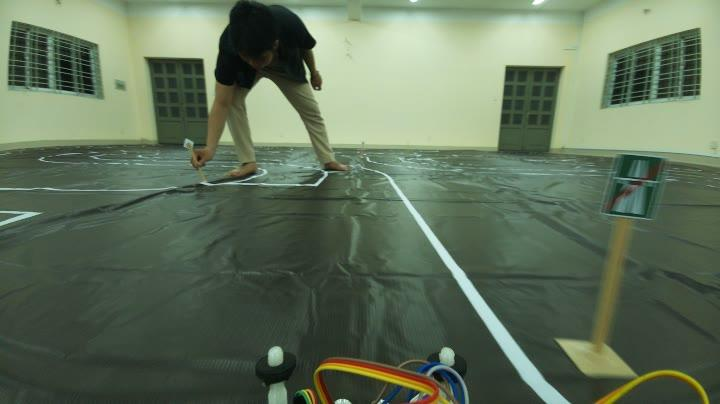highway_exit: (604, 145, 668, 237)
